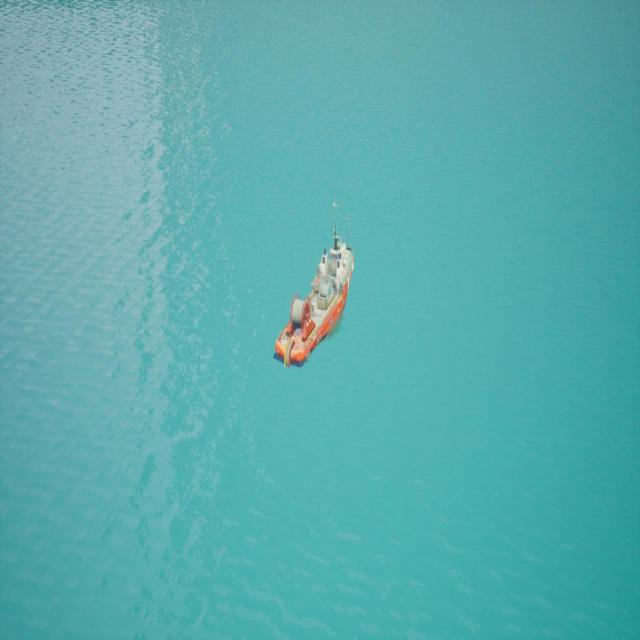tug boat: (298, 200, 355, 370)
